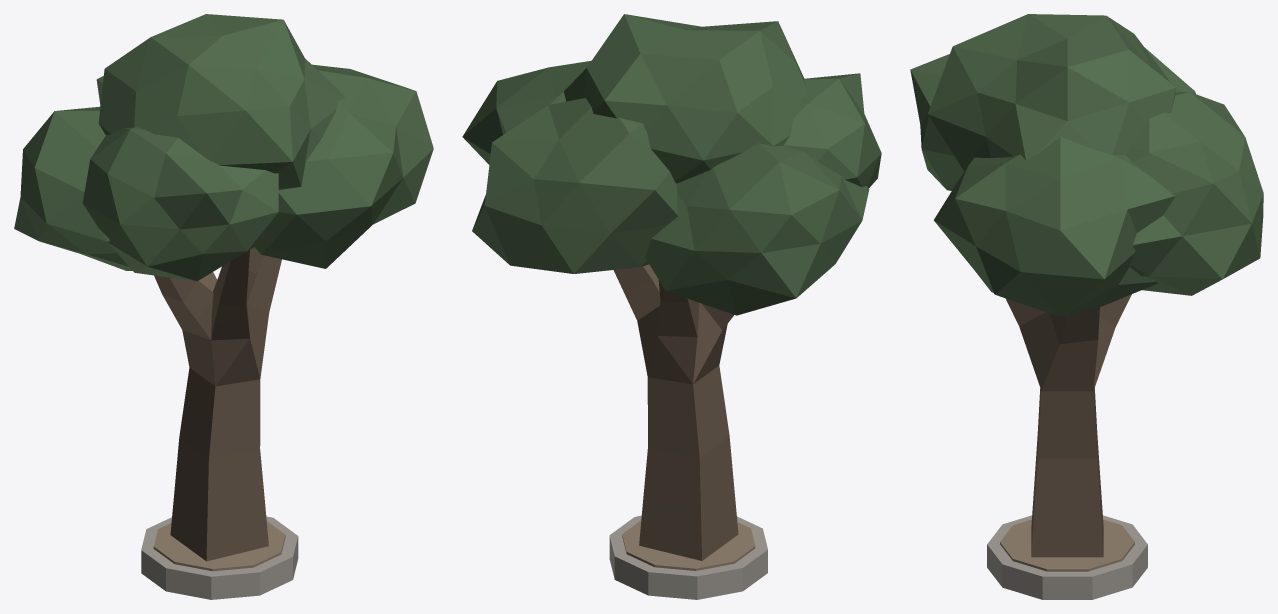
The model's file is tree_court.glb.
3 views of the same model, side by side, from view 1: azimuth 30°, elevation 25°; view 2: azimuth 150°, elevation 25°; view 3: azimuth 270°, elevation 25° (orthographic).
Visible parts, largest first — view 1: tree_court; view 2: tree_court; view 3: tree_court.
Part boxes in pixels (bbox=[...]): tree_court: bbox=[14, 14, 433, 599]; tree_court: bbox=[462, 14, 881, 599]; tree_court: bbox=[910, 14, 1263, 599].
Bounding box in the file's own units: 6.8 × 9.12 × 5.49.
